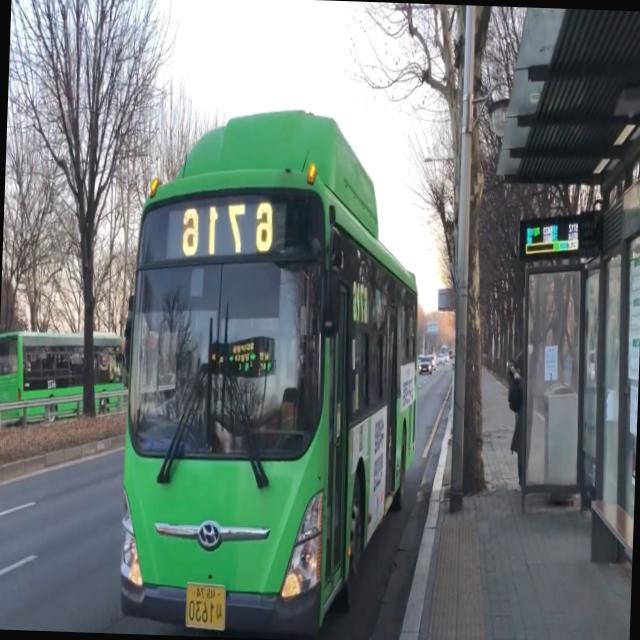bus-number: (180, 194, 275, 266)
